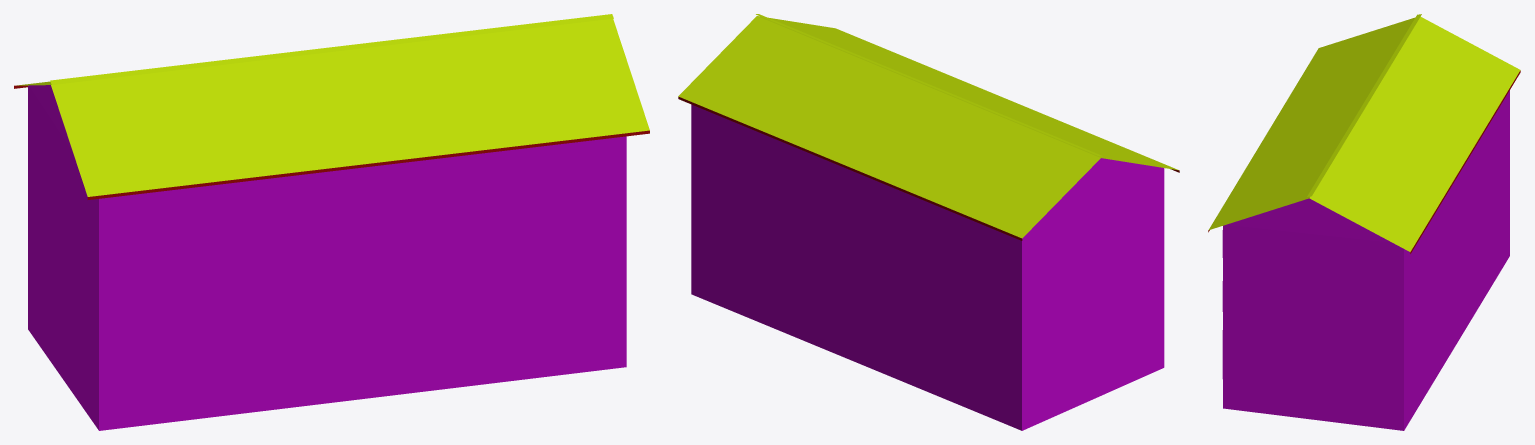
3 renders of one model, left to right at view 1: azimuth 30°, elevation 25°; view 2: azimuth 150°, elevation 25°; view 3: azimuth 270°, elevation 25°, orthographic. The views are drawn at different scales.
Parts seen in each view (by area): view 1: sc_92; view 2: sc_92; view 3: sc_92.
Part boxes in pixels (bbox=[...]): sc_92: bbox=[14, 14, 649, 430]; sc_92: bbox=[678, 14, 1179, 430]; sc_92: bbox=[1208, 14, 1520, 430].
Size of the model in its own units: 22.22 by 11.6 by 14.37.
